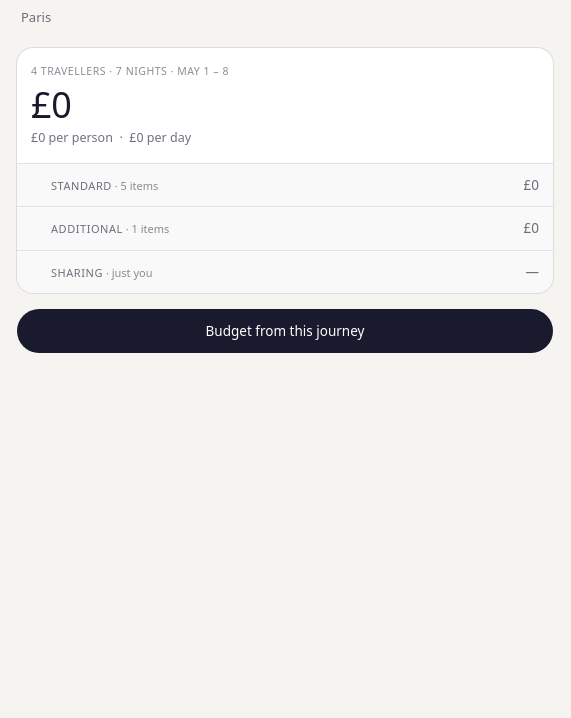
Test case: Budget from this journey, outside Canada › a Briton's basis is in pounds
The width and height of the screenshot is (571, 718).
What coordinates should you click on to do the following:
click the button "Budget from this journey"
I would click on:
 (285, 331)
Its box is [17,309,553,353].
Wait 800 ms
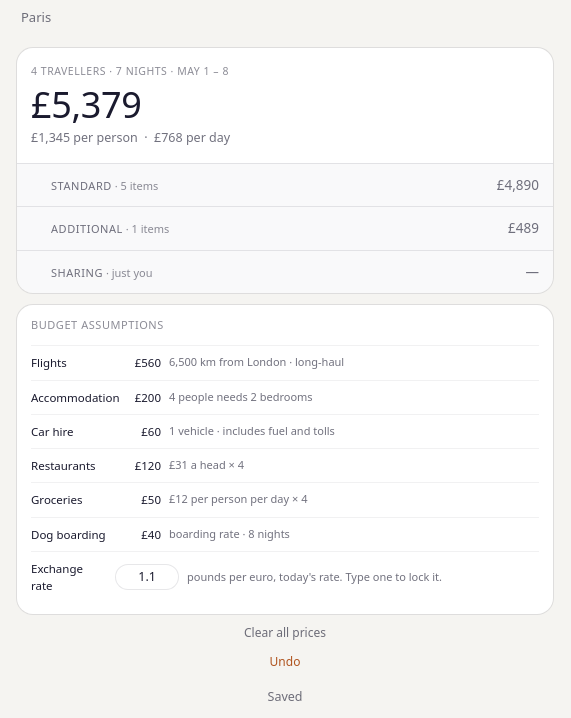
Check: the text "£31 a head × 4" is shown, box [169,457,244,472]
